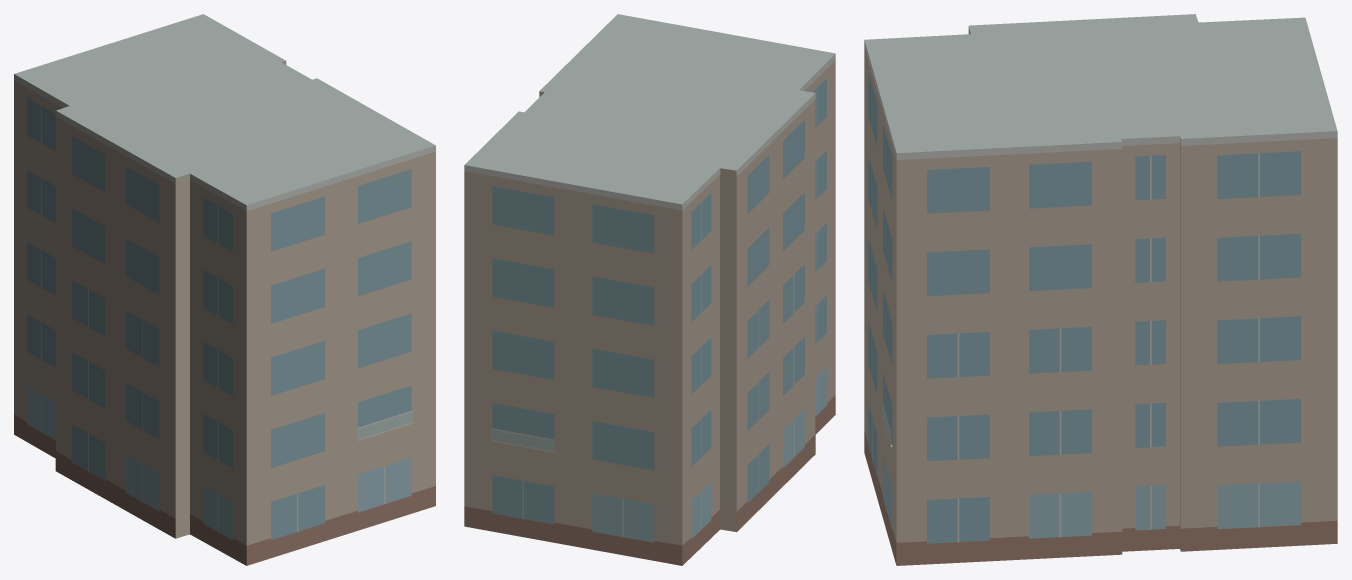
Rendered from survey-upis-33046666.glb.
3 views of the same model, side by side, from view 1: azimuth 30°, elevation 25°; view 2: azimuth 150°, elevation 25°; view 3: azimuth 270°, elevation 25° (orthographic). The views are drawn at different scales.
Parts seen in each view (by area): view 1: survey-upis-33046666.tmp; view 2: survey-upis-33046666.tmp; view 3: survey-upis-33046666.tmp.
Boxes of the visible parts, x1,y1,x2,y2 form: survey-upis-33046666.tmp: (14,14,435,565); survey-upis-33046666.tmp: (464,14,835,565); survey-upis-33046666.tmp: (864,14,1337,565).
Bounding box in the file's own units: 10.54 × 14.55 × 15.13.
